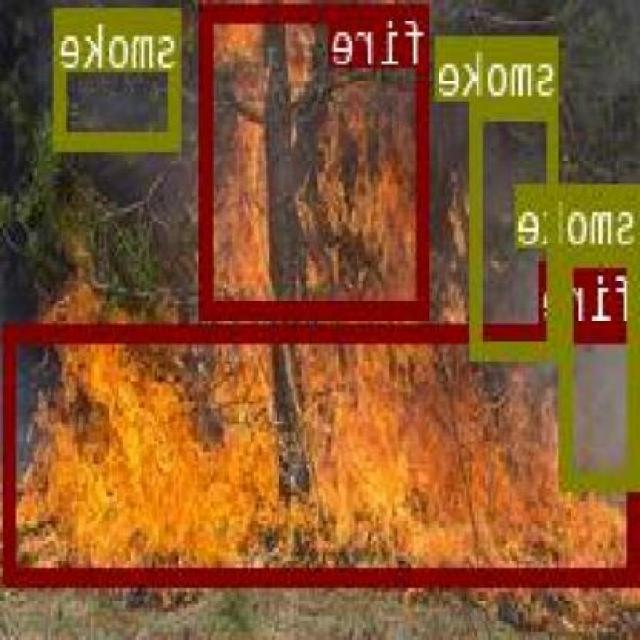Fire: (4, 314, 638, 602), (186, 0, 422, 335)
Smoke: (422, 0, 614, 453), (50, 0, 162, 267)
